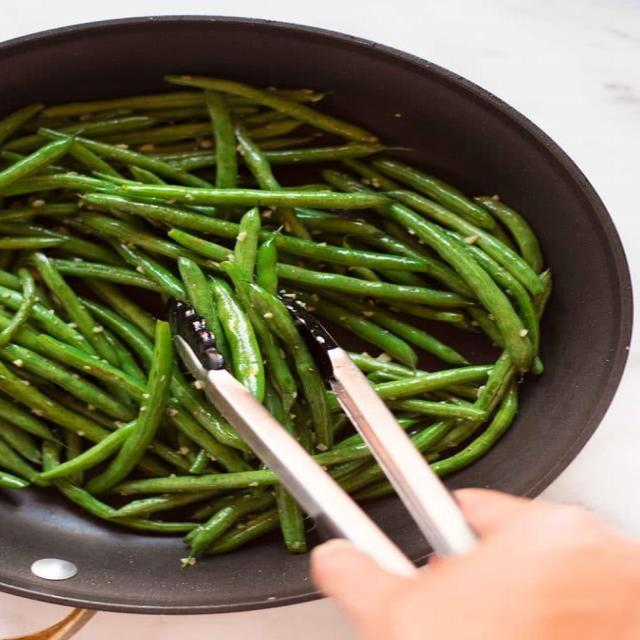Beans: (0, 72, 558, 576)
